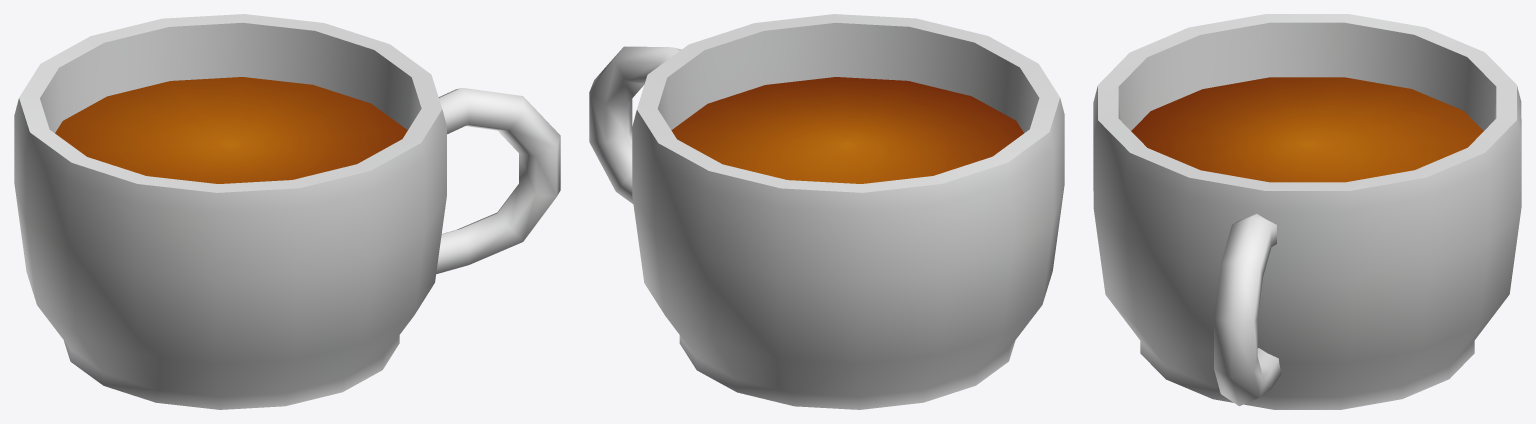
File: Cup2.fbx
The picture shows the model from 3 angles, left to right: view 1: azimuth 30°, elevation 25°; view 2: azimuth 150°, elevation 25°; view 3: azimuth 270°, elevation 25°; orthographic projection.
Visible parts, largest first — view 1: Cup2; view 2: Cup2; view 3: Cup2.
Boxes of the visible parts, x1=… form: Cup2: x1=14, y1=14, x2=560, y2=409; Cup2: x1=589, y1=14, x2=1064, y2=409; Cup2: x1=1093, y1=14, x2=1521, y2=409.
Bounding box in the file's own units: 593 × 280 × 458.
